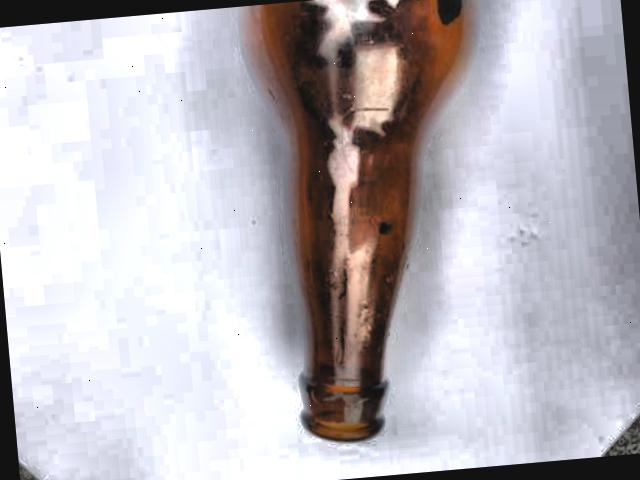Bottles: (187, 0, 555, 470)
